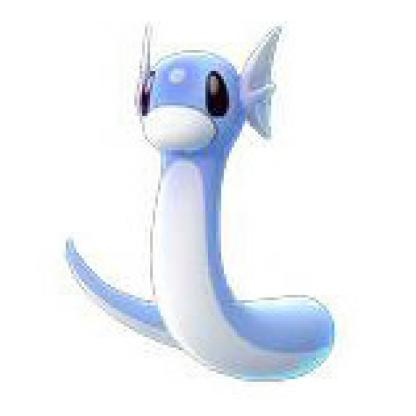Dratini: (46, 8, 339, 388)
